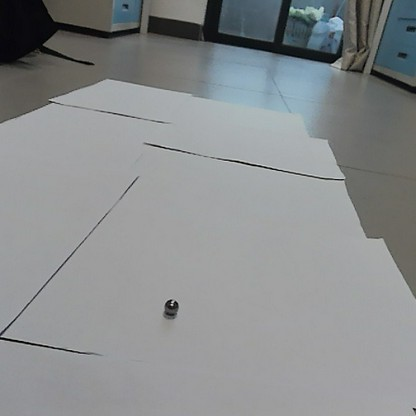ironball: (161, 295, 181, 316)
